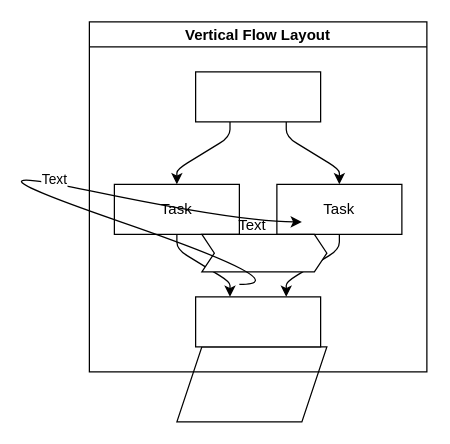
This 450x444 diagram has some shape labels left out. Here are the shapes that lost their labels. From the top down, the centre of each, then its label:
At point 257,96: "Start".
At point 257,321: "End".
